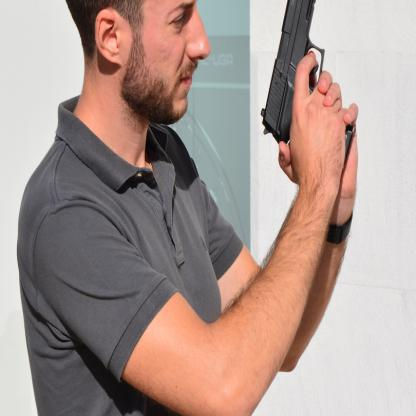gun: (259, 0, 356, 170)
